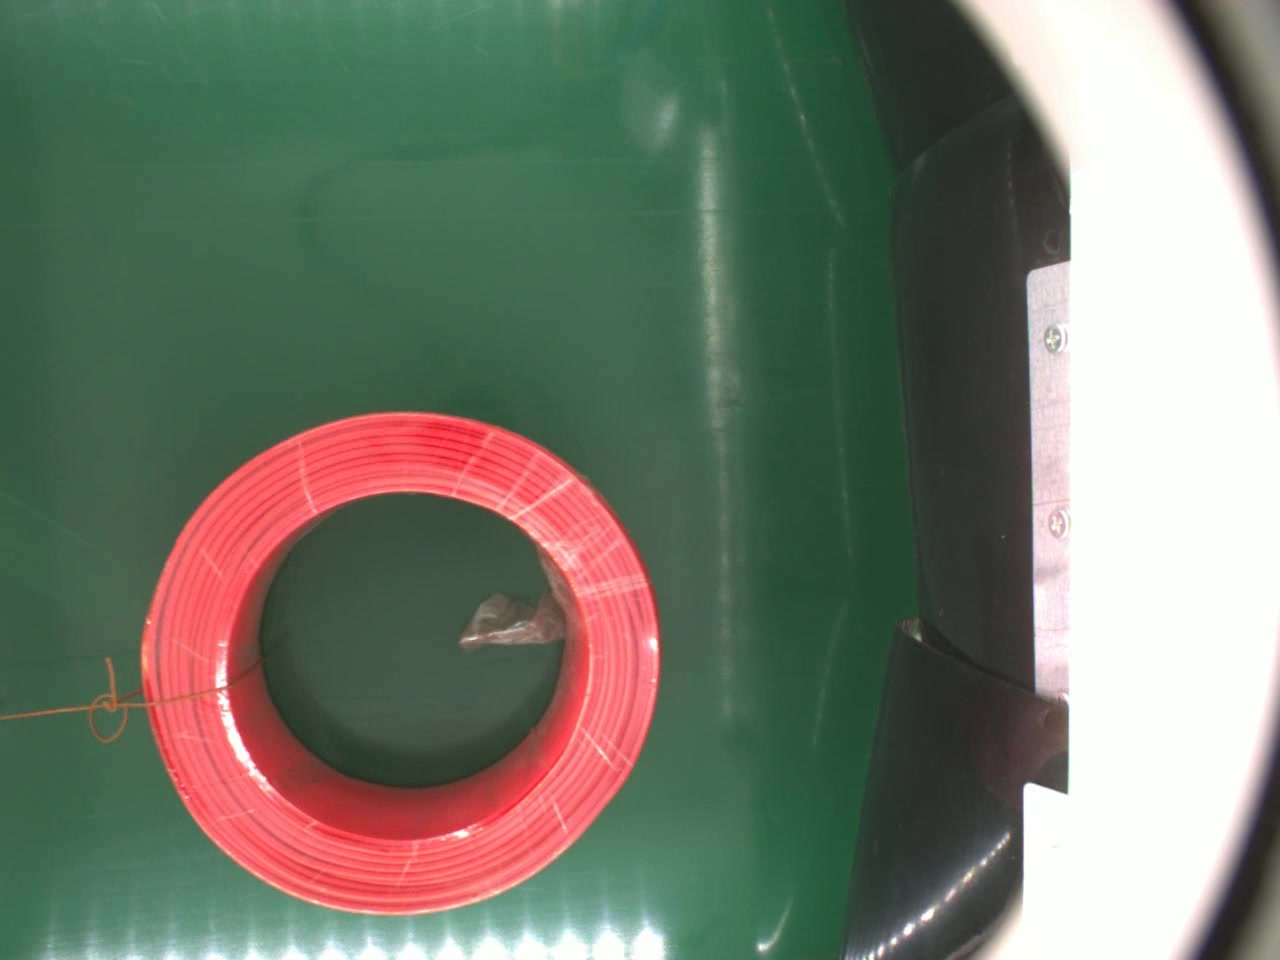red: (138, 402, 666, 924)
